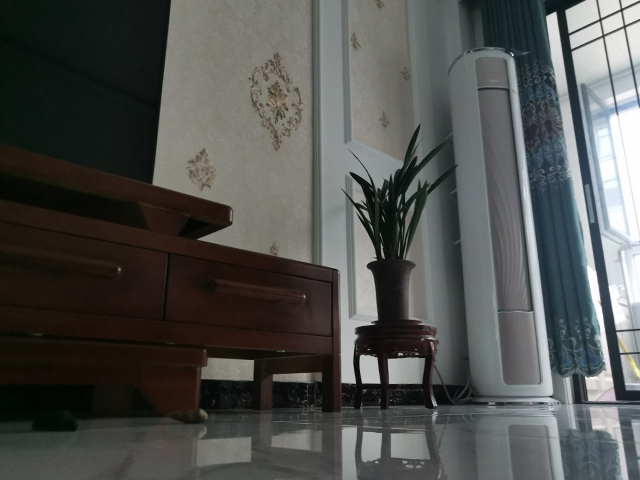cabinet: (1, 143, 344, 418)
curtain: (479, 1, 610, 379)
feces: (28, 406, 81, 433), (163, 407, 209, 426)
stool: (351, 319, 440, 411)
wire: (430, 365, 476, 406)
